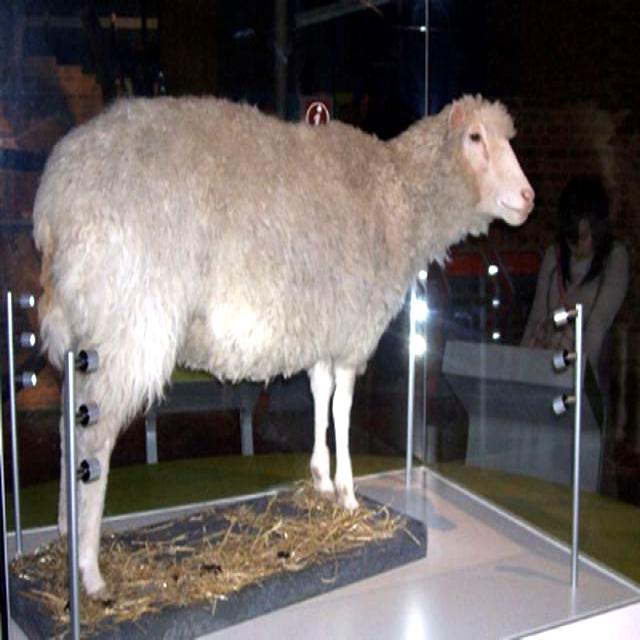sheep: (29, 93, 535, 606)
